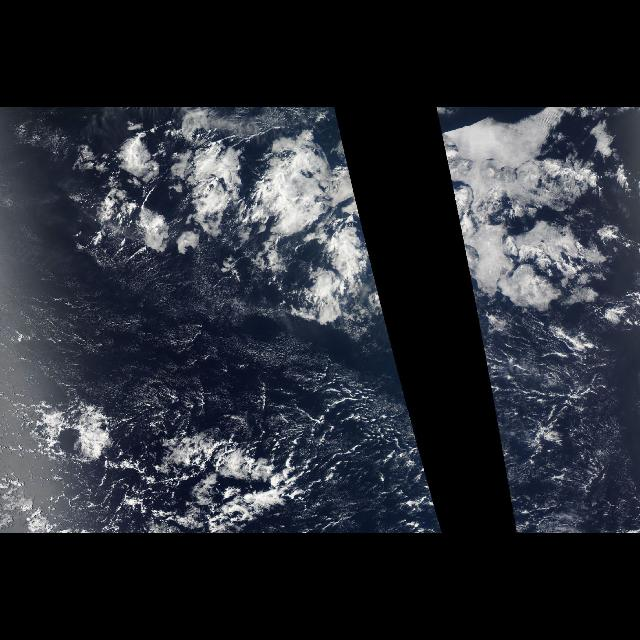Flower: (56, 118, 388, 356), (437, 118, 501, 334)
Gravel: (13, 378, 409, 532)
Sugar: (2, 241, 414, 427)
